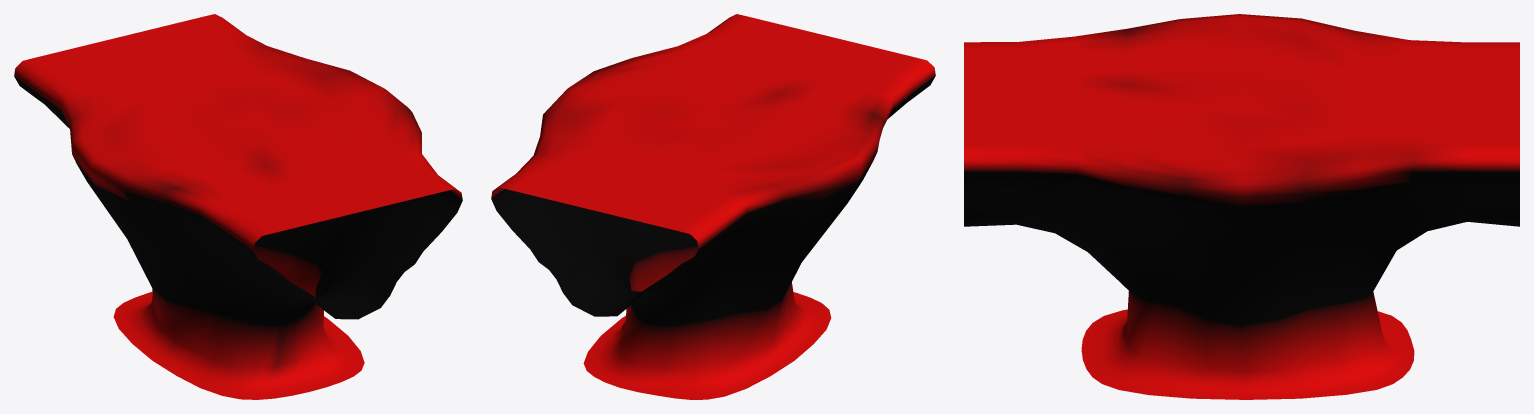
The model's file is CrossingCliff01D 1M Foreground.fbx.
The picture shows the model from 3 angles, left to right: view 1: azimuth 30°, elevation 25°; view 2: azimuth 150°, elevation 25°; view 3: azimuth 270°, elevation 25°; orthographic projection. The views are drawn at different scales.
Visible parts, largest first — view 1: CrossingCliff01D 1M Foreground; view 2: CrossingCliff01D 1M Foreground; view 3: CrossingCliff01D 1M Foreground.
Boxes of the visible parts, x1,y1,x2,y2 form: CrossingCliff01D 1M Foreground: (14, 14, 462, 399); CrossingCliff01D 1M Foreground: (491, 14, 935, 399); CrossingCliff01D 1M Foreground: (964, 14, 1519, 399).
Bounding box in the file's own units: 1.44 × 1 × 2.
